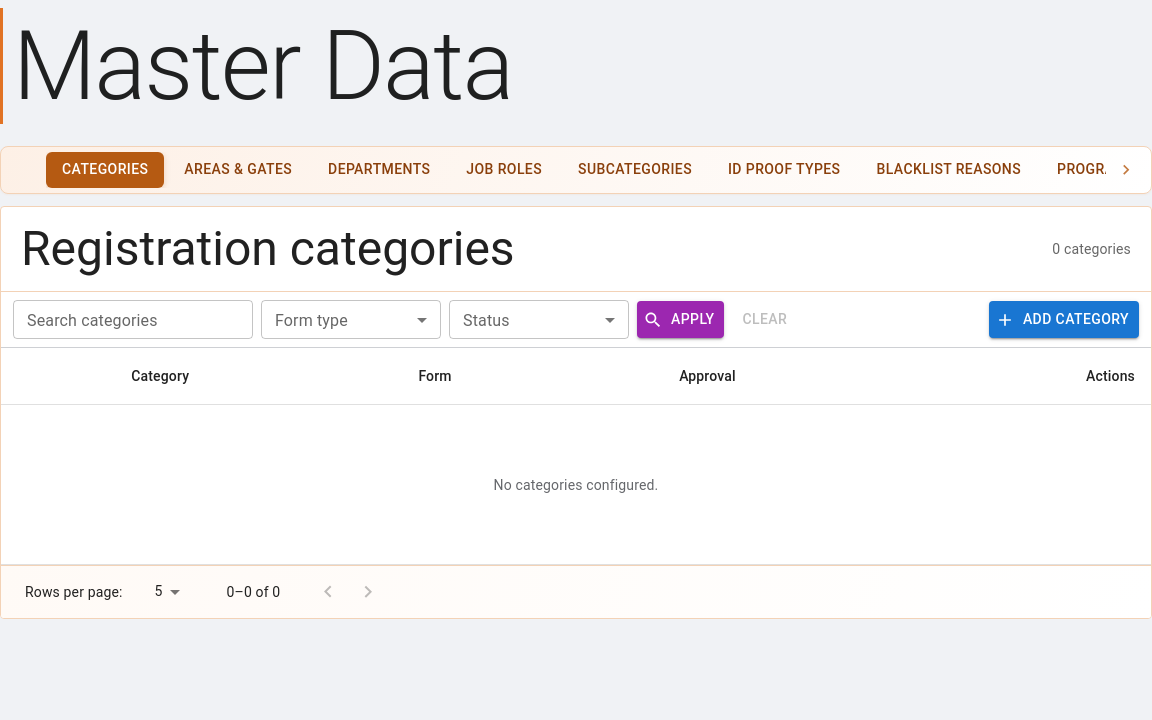
hides Parent / Category for ID Proof Types
Click the tab "ID Proof Types" at (784, 170), box x1=712 y1=152 x2=856 y2=188
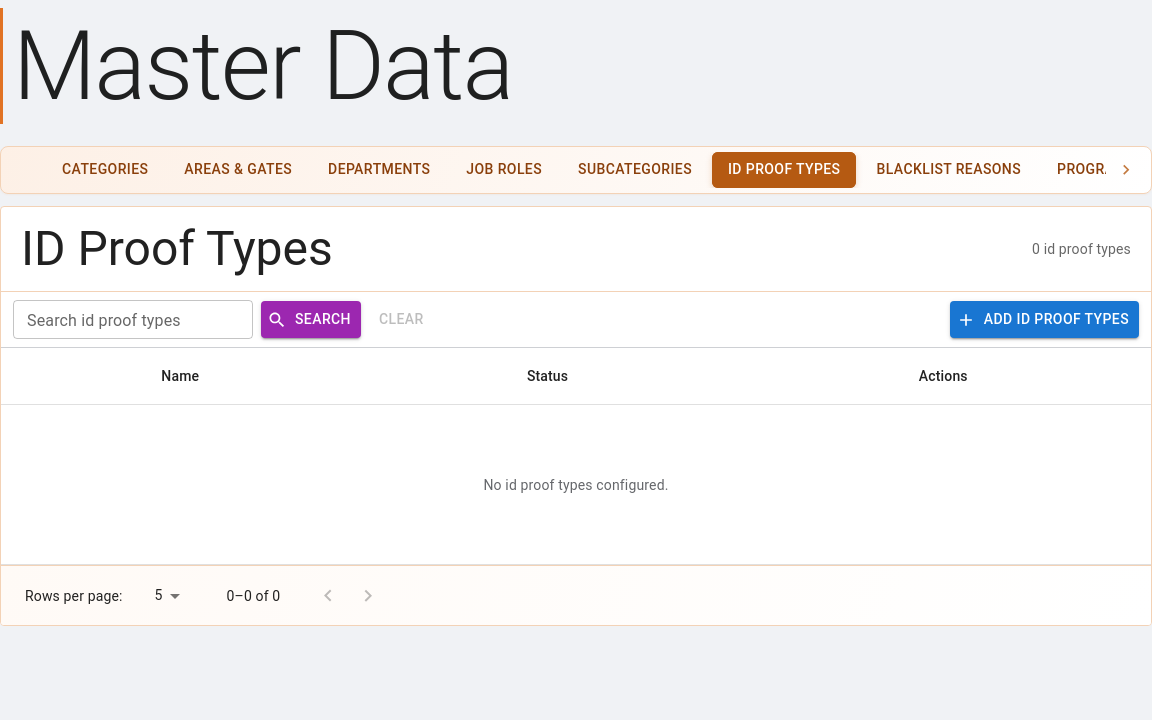
Expected: the table named "Master data values" is shown, x1=1 y1=348 x2=1151 y2=565
